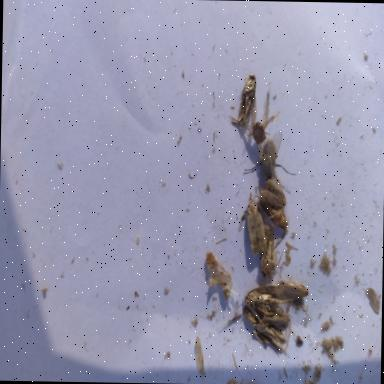pbw: (241, 282, 295, 310), (256, 200, 290, 240), (260, 226, 284, 280), (246, 194, 266, 254), (252, 324, 288, 356), (239, 73, 257, 124), (260, 176, 286, 208), (278, 282, 310, 300), (261, 313, 297, 326), (364, 287, 380, 315), (241, 307, 259, 326)
